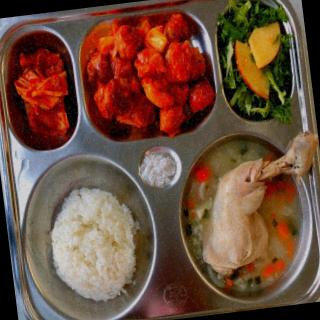Nasi: (40, 180, 151, 319)
